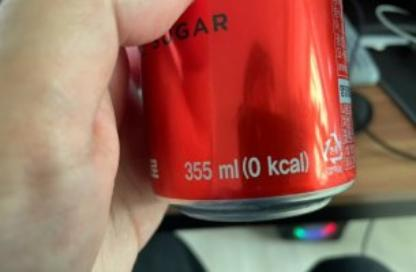Can: (140, 0, 360, 218)
